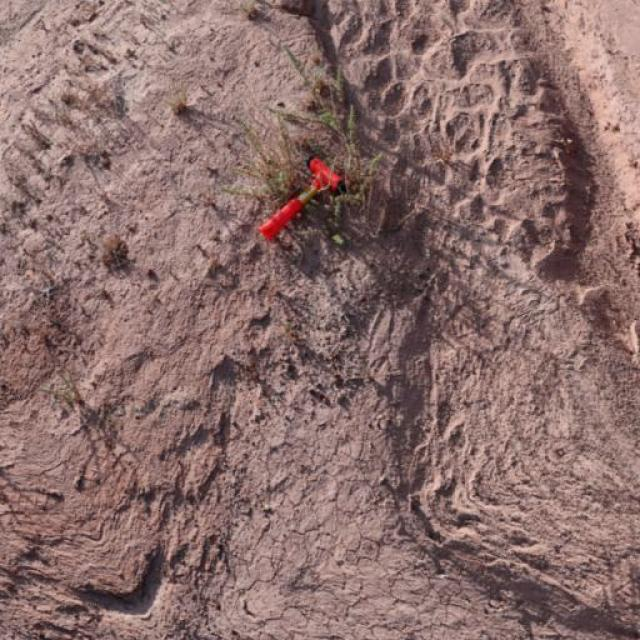mallet: (256, 155, 346, 241)
